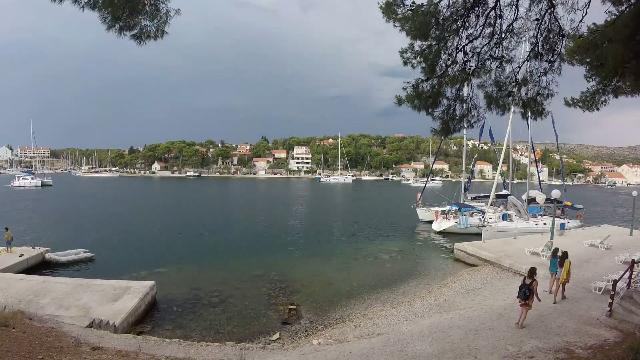Sailboat: (5, 170, 58, 190), (316, 169, 356, 187), (408, 173, 446, 189)
